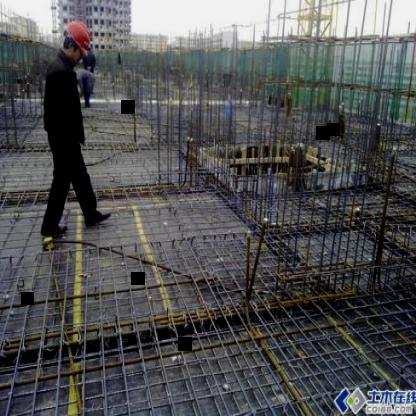helmet: (60, 16, 96, 67)
